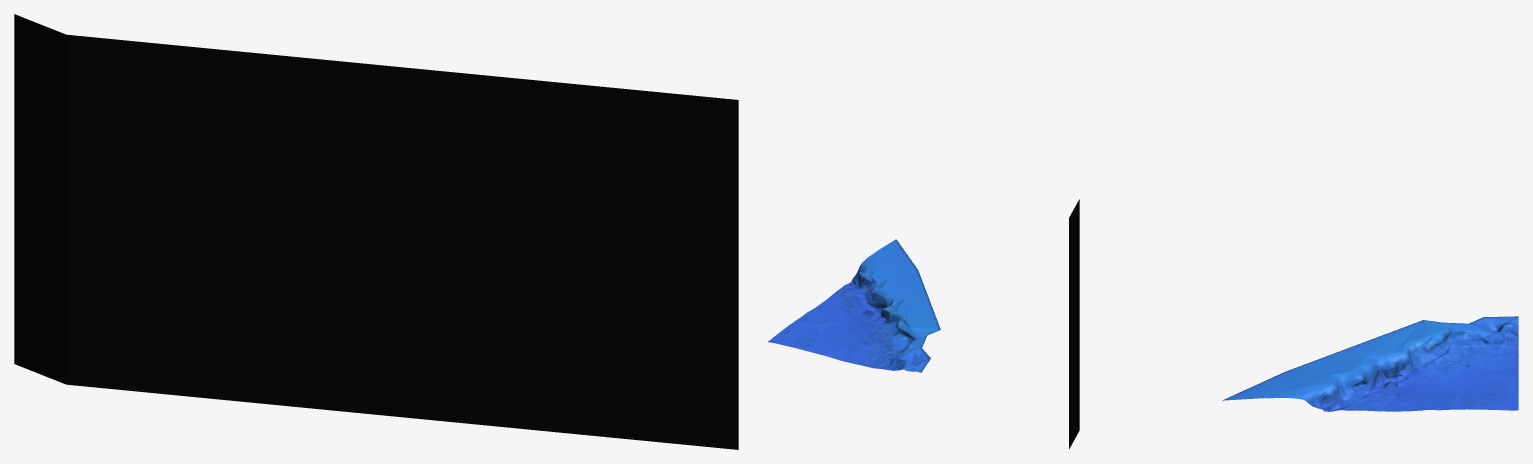
The picture shows the model from 3 angles, left to right: view 1: azimuth 30°, elevation 25°; view 2: azimuth 150°, elevation 25°; view 3: azimuth 270°, elevation 25°; orthographic projection. The views are drawn at different scales.
Bounding box in the file's own units: 12.25 × 9 × 12.55.
Materials: 2 (2 with a texture image).
